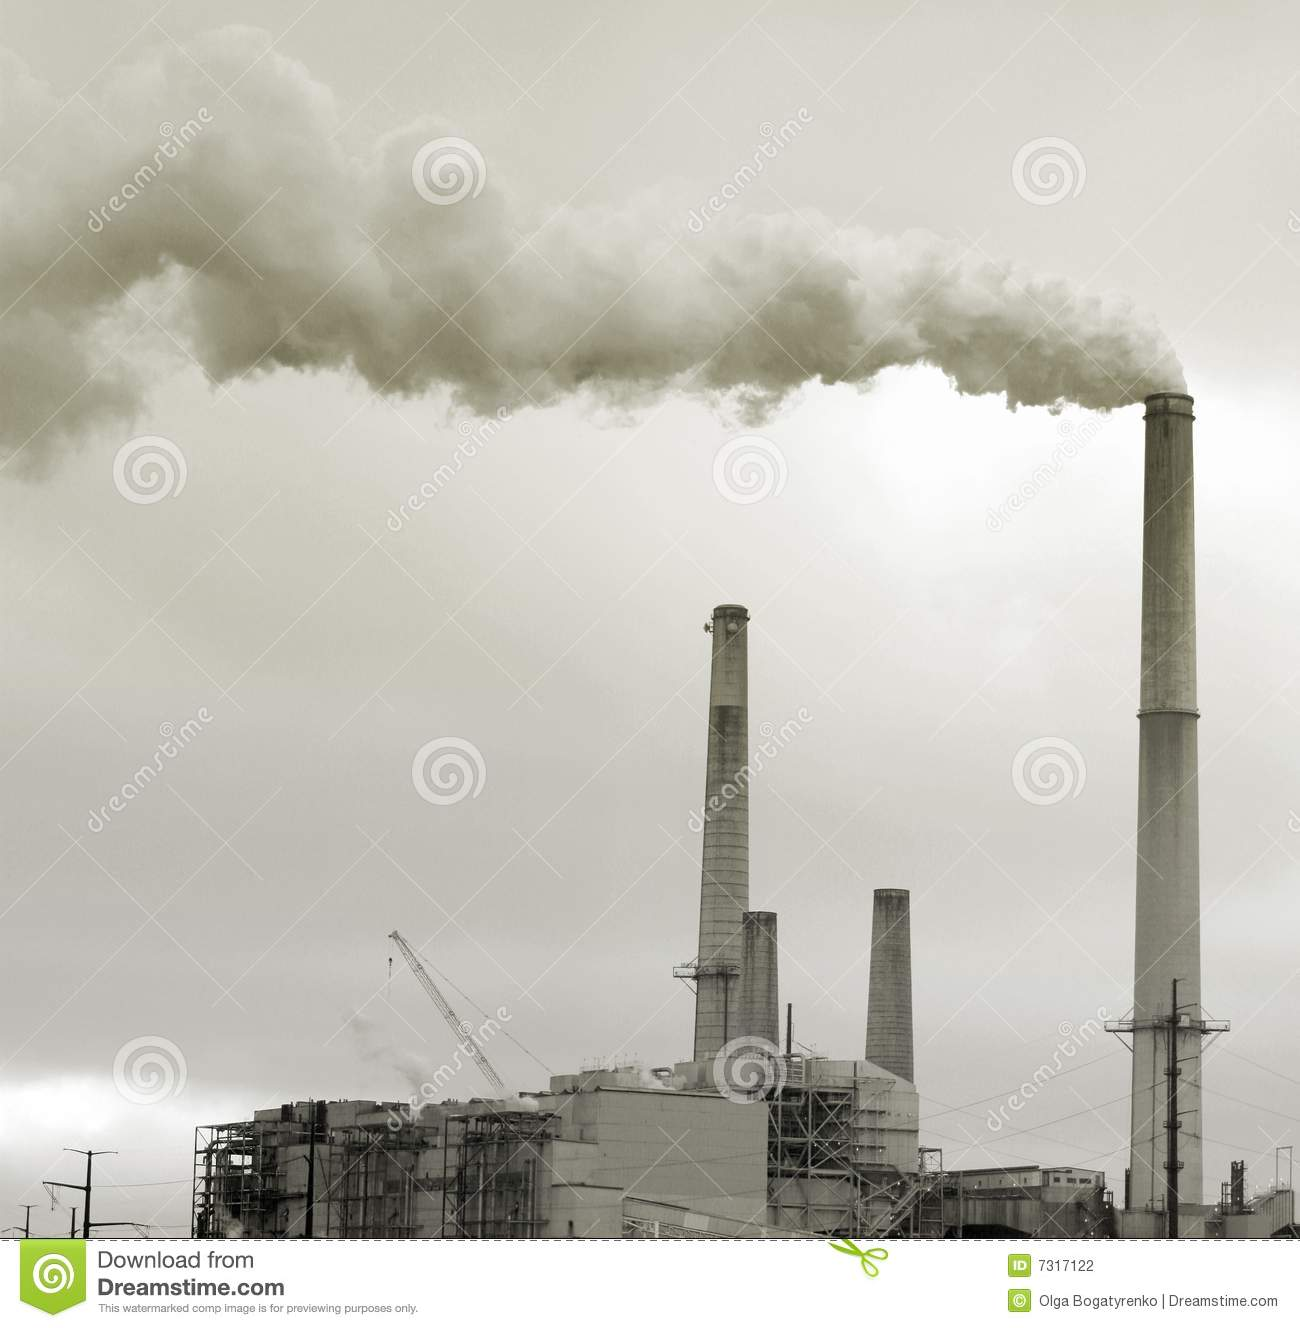dust: (102, 42, 1206, 464)
